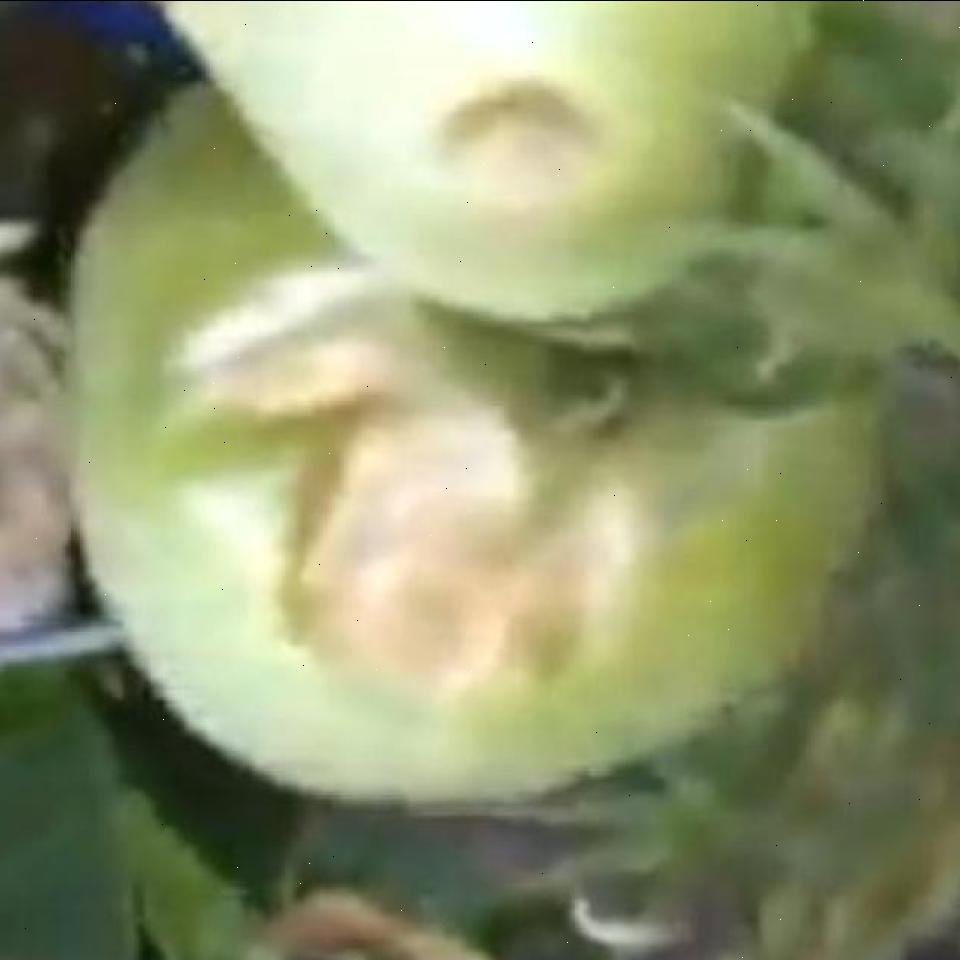Sunscald: (178, 276, 700, 708), (389, 82, 627, 206)
